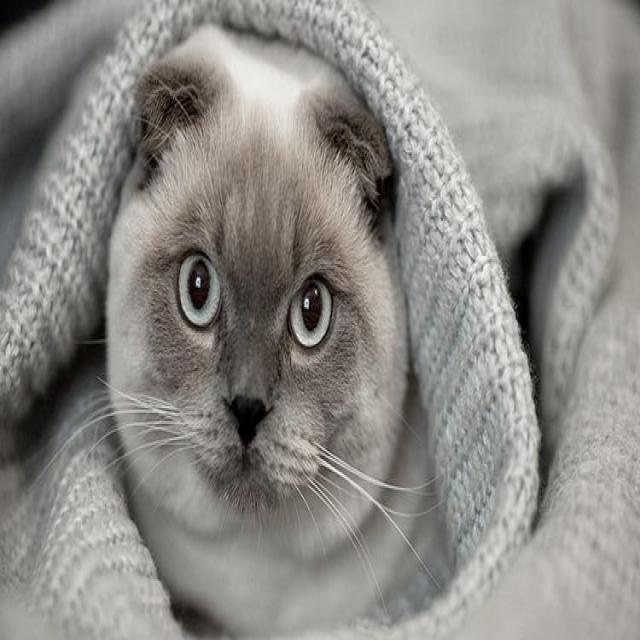Cat: (101, 22, 412, 566)
